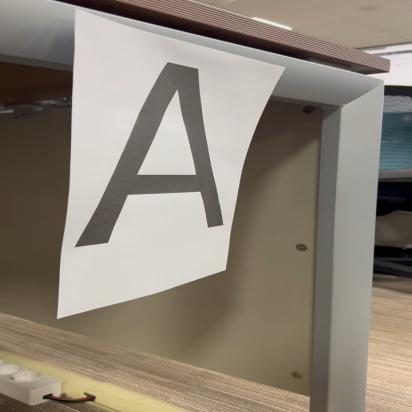seat: (64, 50, 234, 250)
